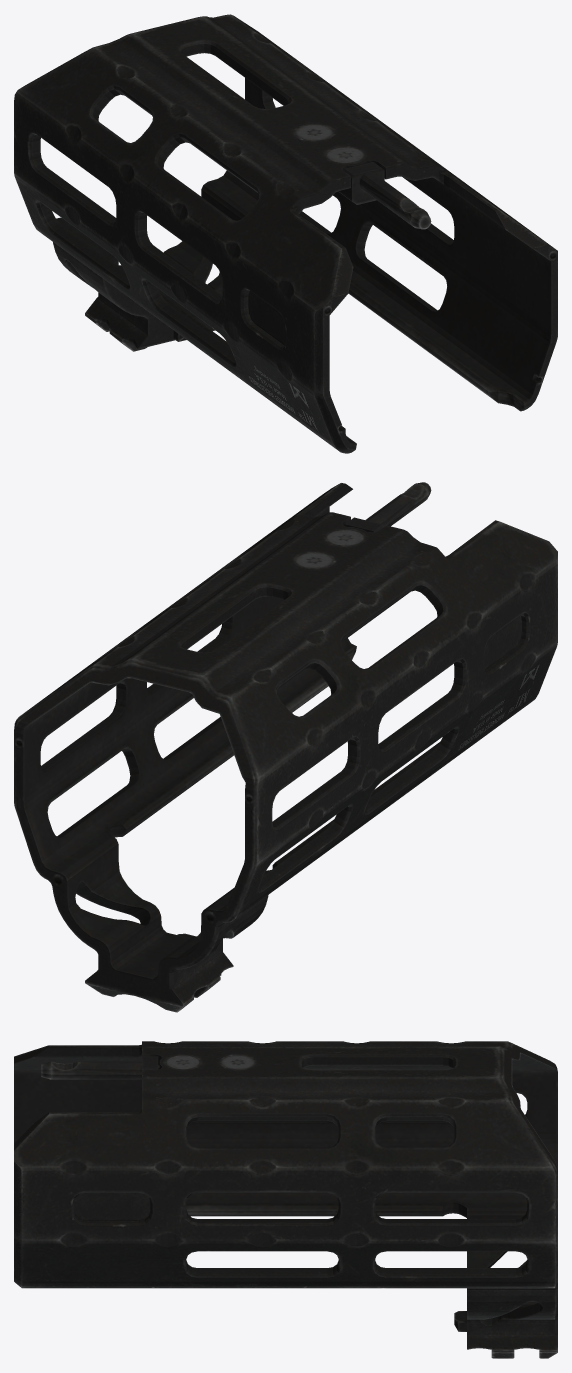
3 views of the same model, one above another, from view 1: azimuth 30°, elevation 25°; view 2: azimuth 150°, elevation 25°; view 3: azimuth 270°, elevation 25° (orthographic). The views are drawn at different scales.
Parts seen in each view (by area): view 1: TW_5c5db5f22e2216000e5e47e8_PZ_Import; view 2: TW_5c5db5f22e2216000e5e47e8_PZ_Import; view 3: TW_5c5db5f22e2216000e5e47e8_PZ_Import.
Boxes of the visible parts, <box> form: TW_5c5db5f22e2216000e5e47e8_PZ_Import: <box>14,14,557,453</box>; TW_5c5db5f22e2216000e5e47e8_PZ_Import: <box>14,482,557,1012</box>; TW_5c5db5f22e2216000e5e47e8_PZ_Import: <box>14,1041,557,1358</box>.
Size of the model in its own units: 0.0304 by 0.0661 by 0.0375.
1 material, 1 textured.
